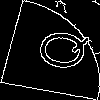Q: (24, 25, 93, 74)
